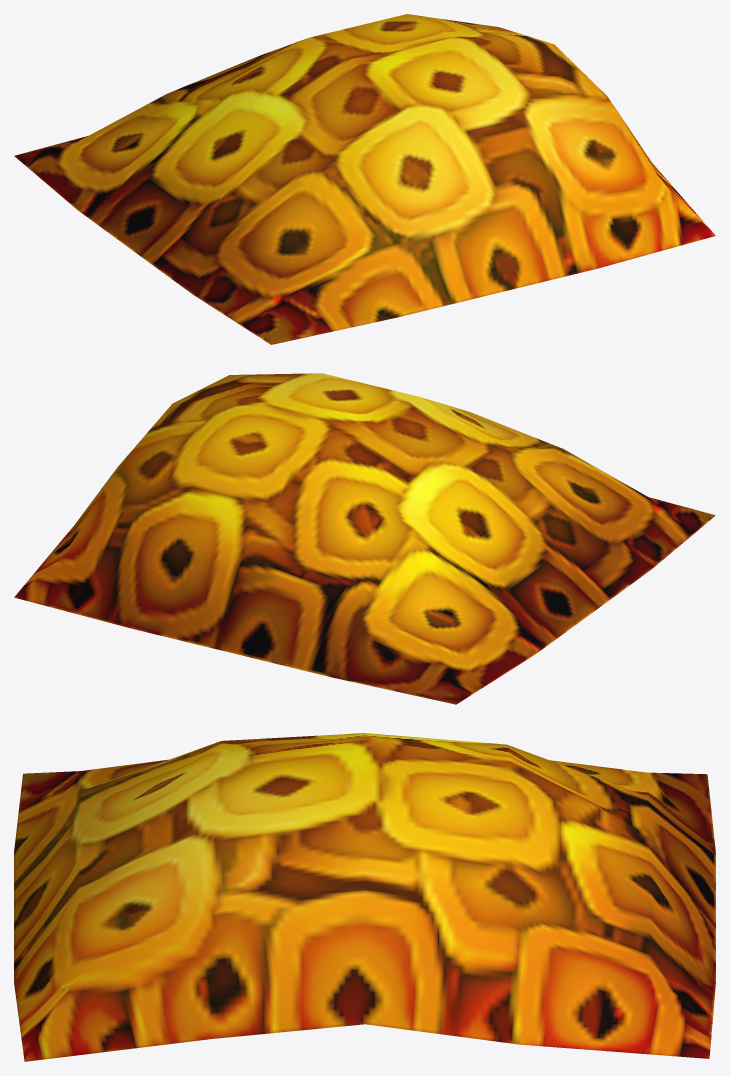
The model's file is Treasury_Empty.FBX.
3 views of the same model, one above another, from view 1: azimuth 30°, elevation 25°; view 2: azimuth 150°, elevation 25°; view 3: azimuth 270°, elevation 25° (orthographic). The views are drawn at different scales.
Parts seen in each view (by area): view 1: Treasury_Empty; view 2: Treasury_Empty; view 3: Treasury_Empty.
Boxes of the visible parts, x1,y1,x2,y2 form: Treasury_Empty: (14,14,715,344); Treasury_Empty: (14,373,715,704); Treasury_Empty: (14,733,715,1061).
Bounding box in the file's own units: 111 × 30.92 × 111.
